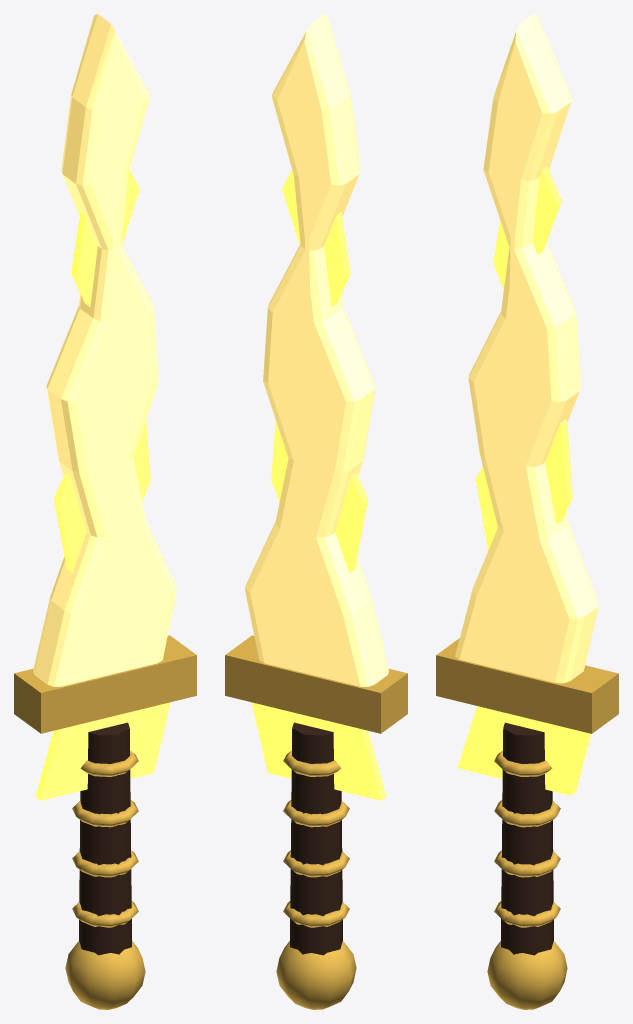
Rendered from dagger_f2_d956adb.glb.
3 views of the same model, side by side, from view 1: azimuth 30°, elevation 25°; view 2: azimuth 150°, elevation 25°; view 3: azimuth 330°, elevation 25° (orthographic).
Parts seen in each view (by area): view 1: m1_ow80_, m3_ow80_, m0_gm110_, m2_ow80_; view 2: m1_ow80_, m3_ow80_, m0_gm110_, m2_ow80_; view 3: m1_ow80_, m3_ow80_, m0_gm110_, m2_ow80_.
Boxes of the visible parts, box(x1,y1,x2,y2) form: m1_ow80_: box(33, 14, 176, 686); m3_ow80_: box(14, 635, 196, 1009); m0_gm110_: box(35, 170, 170, 800); m2_ow80_: box(79, 722, 131, 955); m1_ow80_: box(245, 14, 388, 686); m3_ow80_: box(225, 635, 407, 1009); m0_gm110_: box(251, 170, 386, 800); m2_ow80_: box(290, 722, 342, 955); m1_ow80_: box(455, 14, 598, 683); m3_ow80_: box(436, 638, 618, 1009); m0_gm110_: box(457, 166, 590, 795); m2_ow80_: box(501, 722, 553, 955).
Size of the model in its own units: 0.2 by 1.21 by 0.0852.
